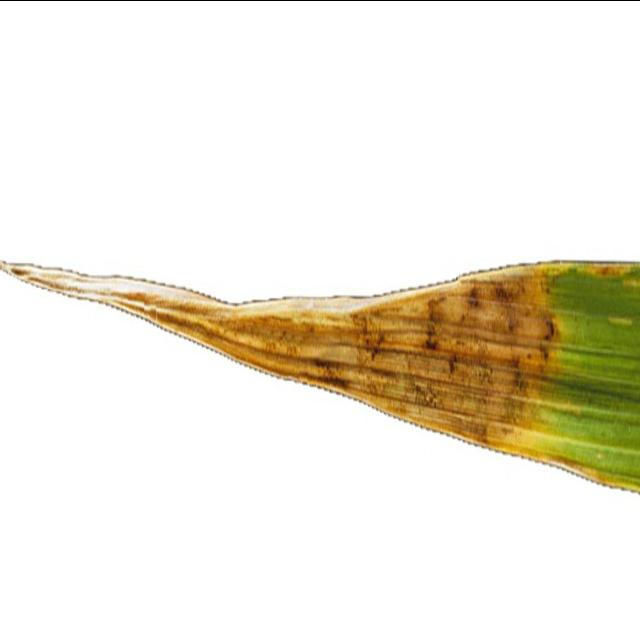Leaf scald: (0, 132, 640, 542)
